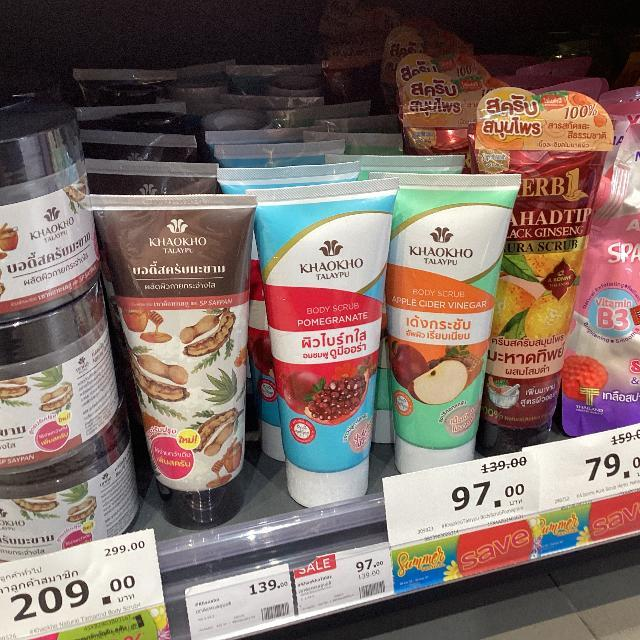Squeeze Tube: (47, 22, 596, 516), (91, 188, 267, 534), (245, 180, 400, 517), (387, 163, 522, 501)
